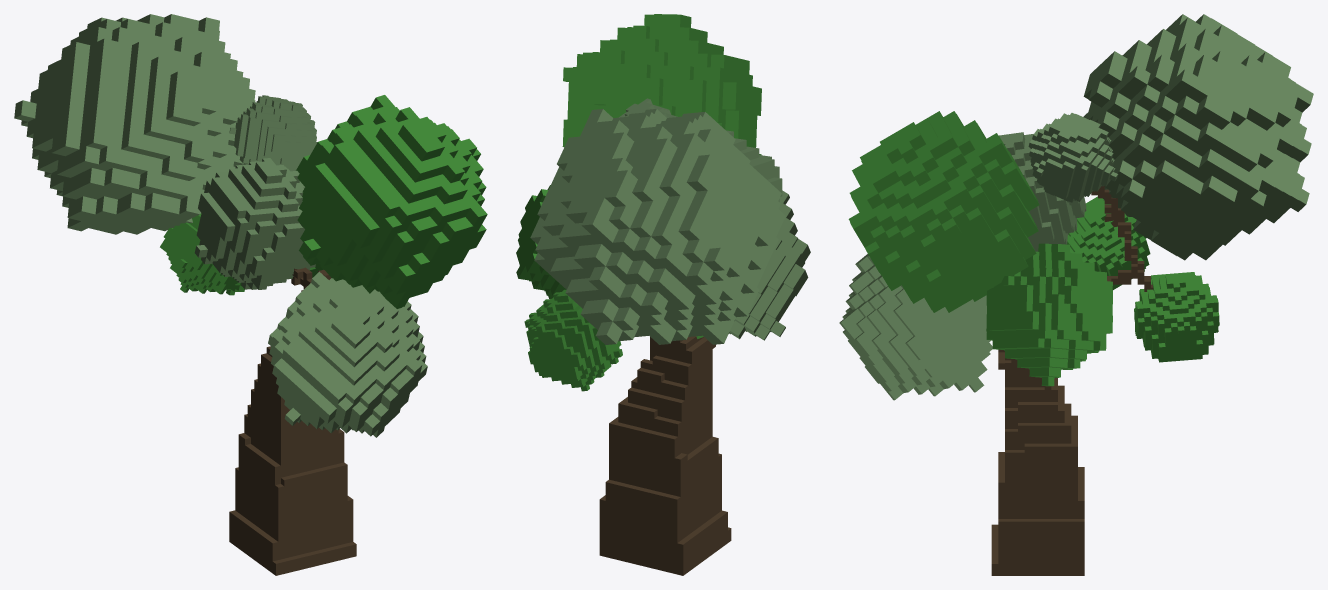
File: Tree1.glb
3 views of the same model, side by side, from view 1: azimuth 30°, elevation 25°; view 2: azimuth 150°, elevation 25°; view 3: azimuth 270°, elevation 25° (orthographic). The views are drawn at different scales.
Visible parts, largest first — view 1: Icosphere.005, Icosphere.004, Icosphere.003, Cube, Icosphere.002, Icosphere.006, Icosphere.001; view 2: Icosphere.005, Cube, Icosphere.004, Icosphere, Icosphere.003, Icosphere.007, Icosphere.002, Icosphere.006; view 3: Icosphere.005, Icosphere.004, Cube, Icosphere.003, Icosphere.007, Icosphere, Icosphere.006, Icosphere.001, Icosphere.002.
Boxes of the visible parts, <box> form: Icosphere.005: <box>14,14,255,234</box>; Icosphere.004: <box>296,95,487,308</box>; Icosphere.003: <box>268,271,427,437</box>; Cube: <box>229,267,356,575</box>; Icosphere.002: <box>194,158,315,289</box>; Icosphere.006: <box>229,95,317,171</box>; Icosphere.001: <box>160,213,237,294</box>; Icosphere.005: <box>530,109,785,344</box>; Cube: <box>599,336,731,575</box>; Icosphere.004: <box>562,14,761,155</box>; Icosphere: <box>524,289,622,391</box>; Icosphere.003: <box>728,190,810,340</box>; Icosphere.007: <box>516,185,565,298</box>; Icosphere.002: <box>726,130,782,201</box>; Icosphere.006: <box>619,98,677,117</box>; Icosphere.005: <box>1083,14,1313,260</box>; Icosphere.004: <box>848,111,1039,312</box>; Cube: <box>991,186,1153,575</box>; Icosphere.003: <box>839,254,992,400</box>; Icosphere.007: <box>986,243,1112,386</box>; Icosphere: <box>1134,272,1219,362</box>; Icosphere.006: <box>1028,113,1118,202</box>; Icosphere.001: <box>1067,196,1150,289</box>; Icosphere.002: <box>999,132,1086,251</box>.
Bounding box in the file's own units: 4.78 × 7.2 × 6.31.
